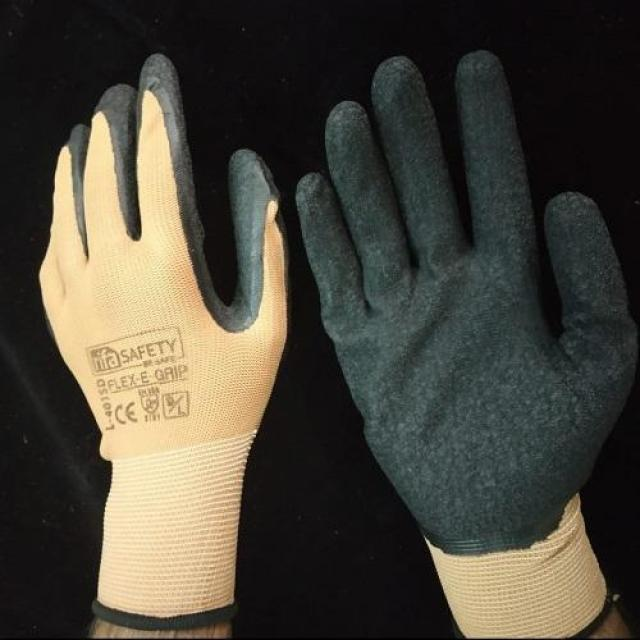gloves: (299, 50, 640, 640), (39, 55, 293, 635)
